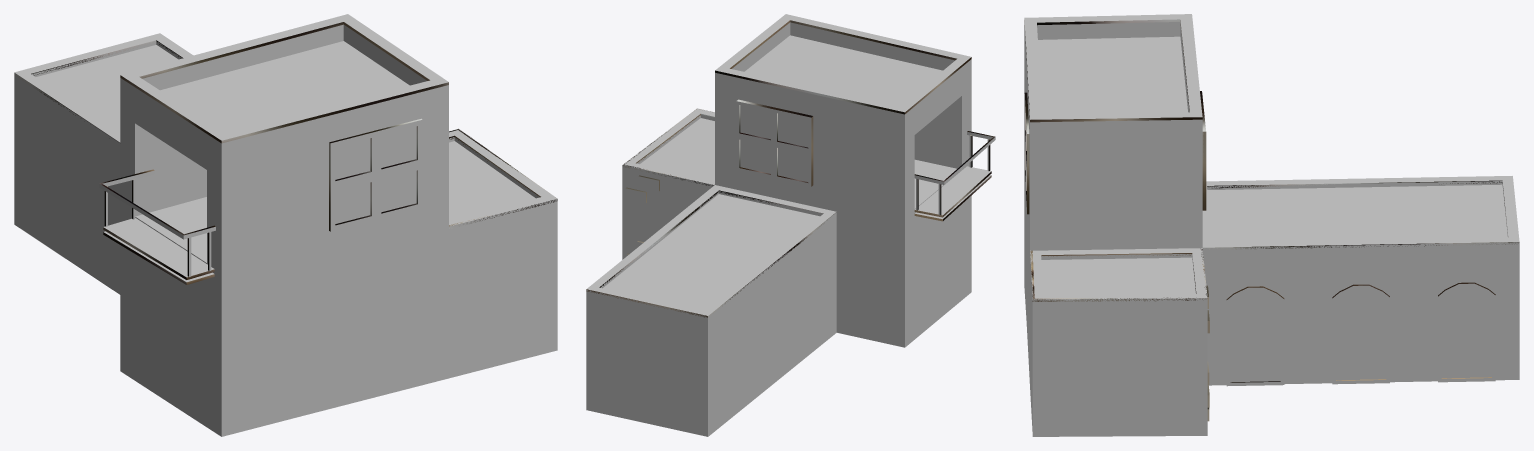
Rendered from HouseBalcony1.fbx.
3 renders of one model, left to right at view 1: azimuth 30°, elevation 25°; view 2: azimuth 150°, elevation 25°; view 3: azimuth 270°, elevation 25°, orthographic. The views are drawn at different scales.
Parts seen in each view (by area): view 1: T-house_balcony; view 2: T-house_balcony; view 3: T-house_balcony.
Part boxes in pixels (x1,y1,x2,y2): T-house_balcony: [14, 14, 557, 436]; T-house_balcony: [586, 14, 995, 436]; T-house_balcony: [1024, 14, 1519, 436].
Size of the model in its own units: 2390 by 1759 by 2940.
